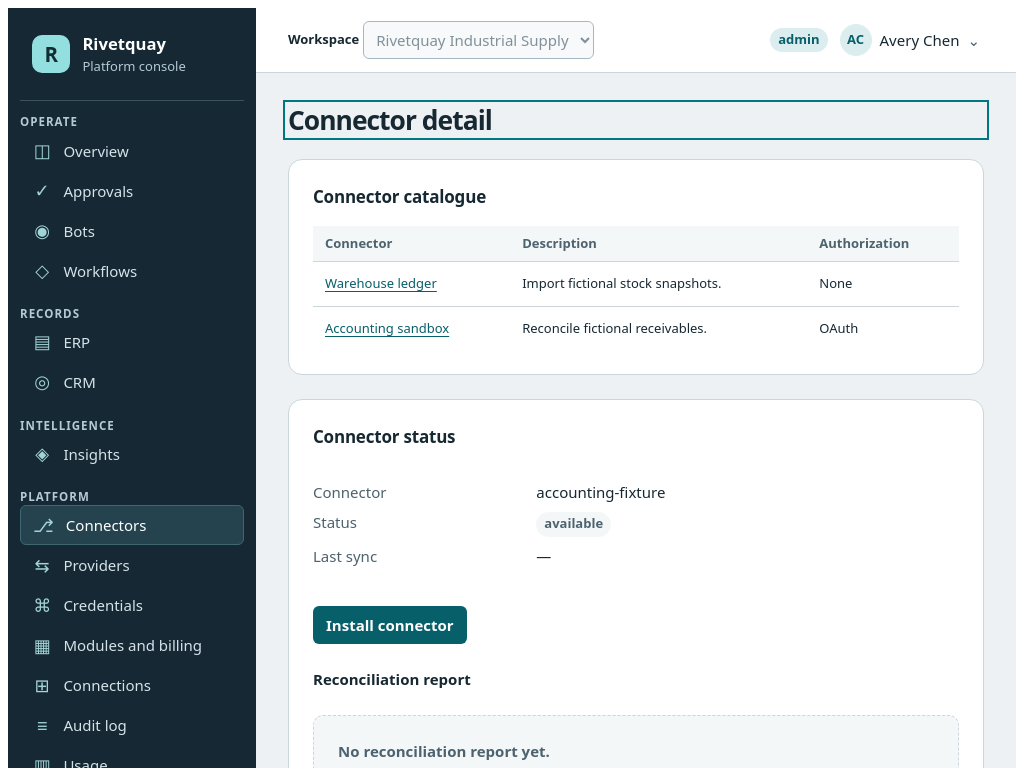
Test: installs, authorizes, syncs and reconciles a fixture connector
Expected: the link "Accounting sandbox" is shown, [325, 319, 449, 337]
Click the button "Install connector": (390, 625) [313, 606, 467, 644]
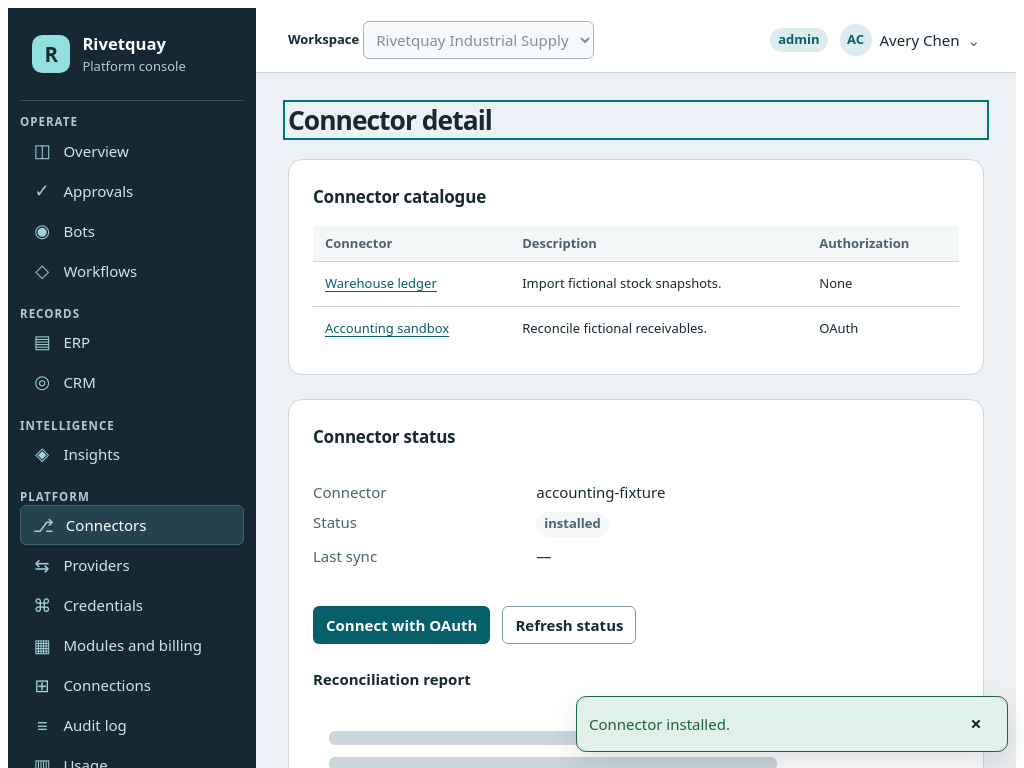
Now the text "Connector installed." is shown, box [589, 713, 730, 735]
Click the button "Connect with OAuth": (402, 625) [313, 606, 490, 644]
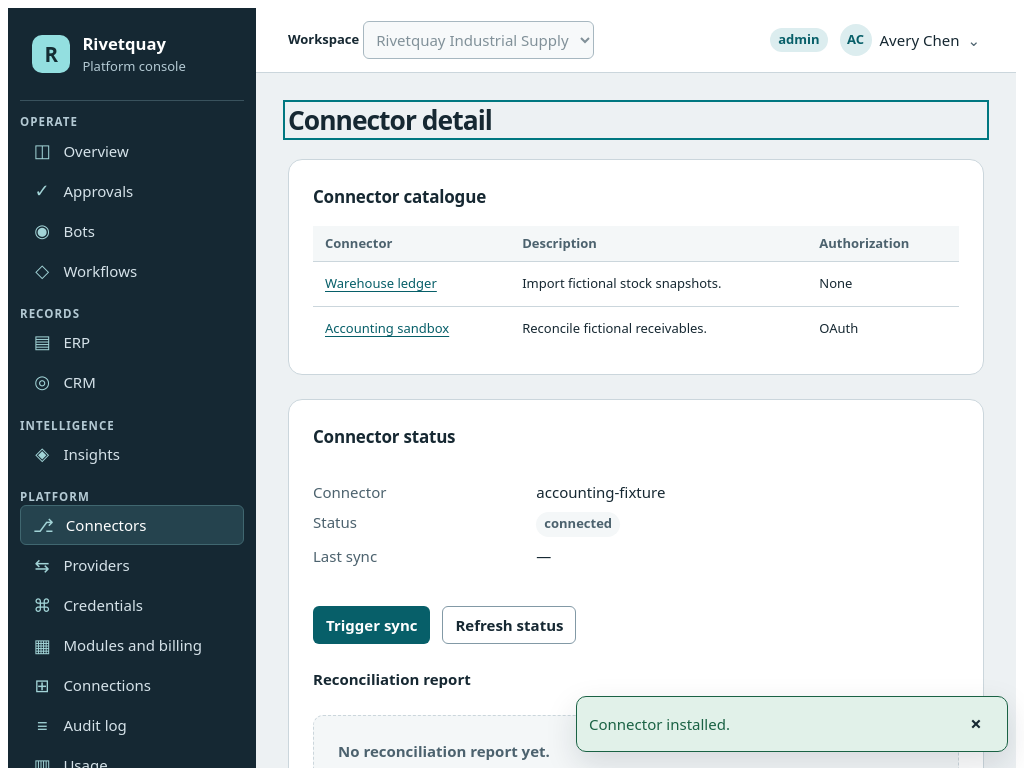
Click the button "Trigger sync": (372, 625) [313, 606, 430, 644]
(page scrolled)
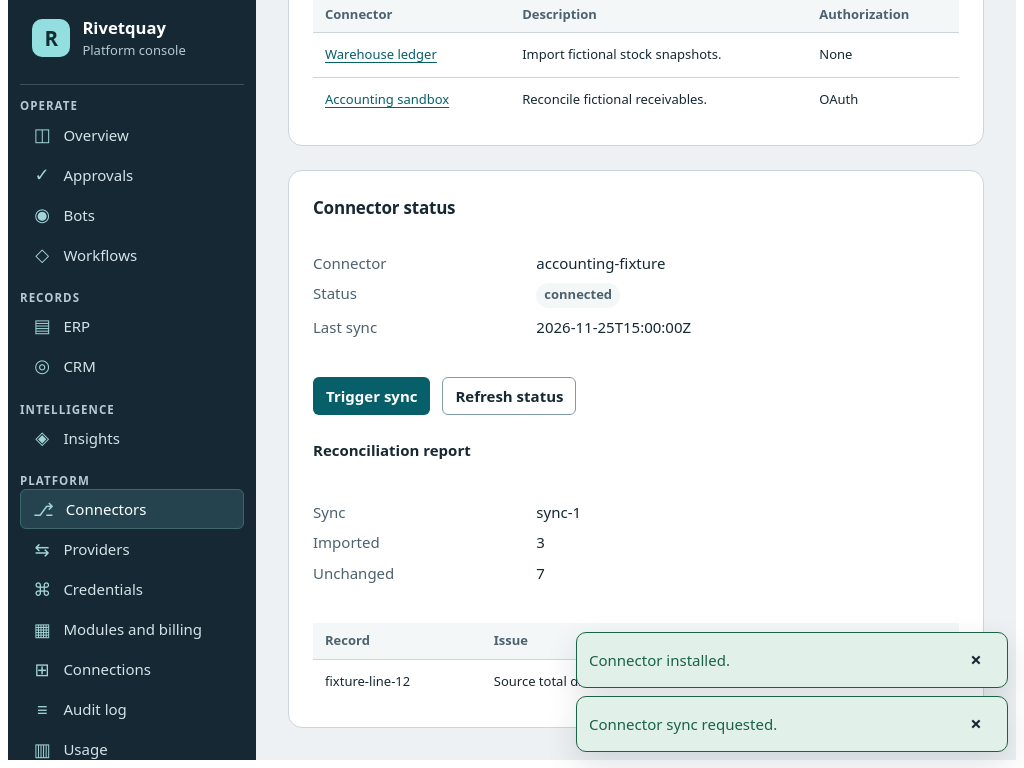
Now the text "Connector sync requested." is shown, box [589, 713, 777, 735]
Now the text "fixture-line-12" is shown, box [313, 659, 482, 703]
